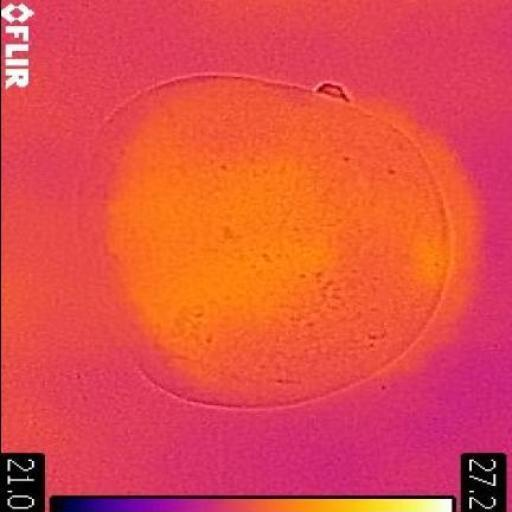alphanso: (78, 78, 454, 410)
